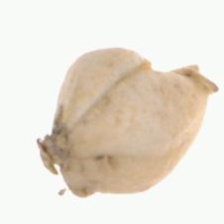L1: (125, 48, 220, 92), (35, 122, 83, 197)
L2: (36, 47, 220, 198)
